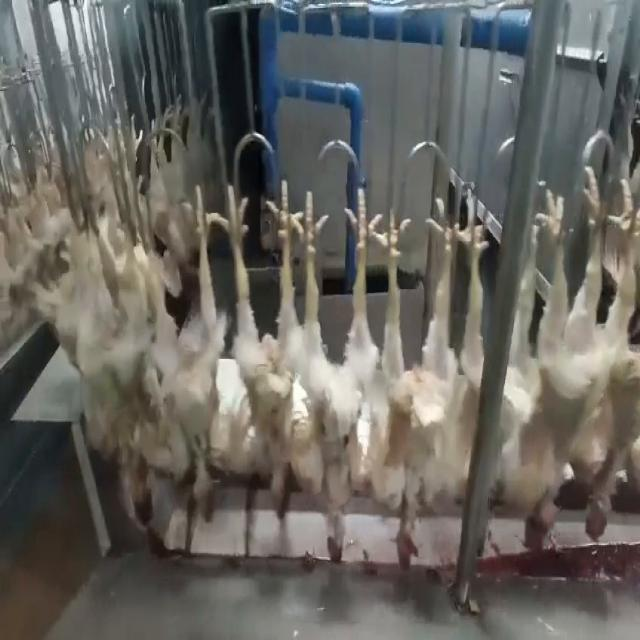chicken: (366, 186, 458, 568), (292, 176, 381, 568), (500, 198, 577, 563), (224, 179, 300, 531), (156, 182, 222, 526), (582, 182, 639, 544), (111, 195, 159, 538), (442, 194, 482, 539)
